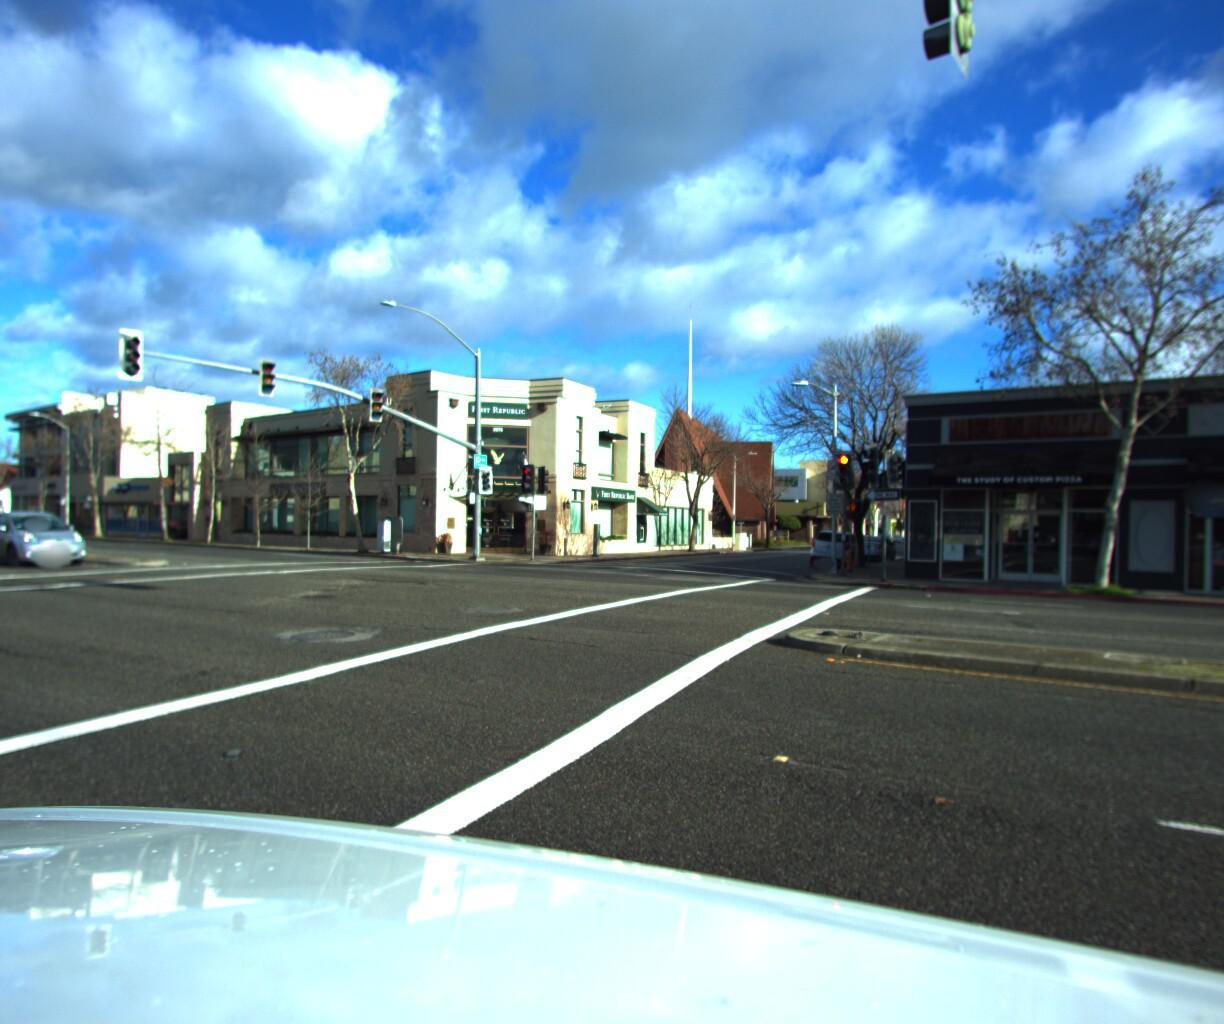car: (0, 505, 91, 565), (805, 522, 866, 567), (848, 527, 895, 558)
